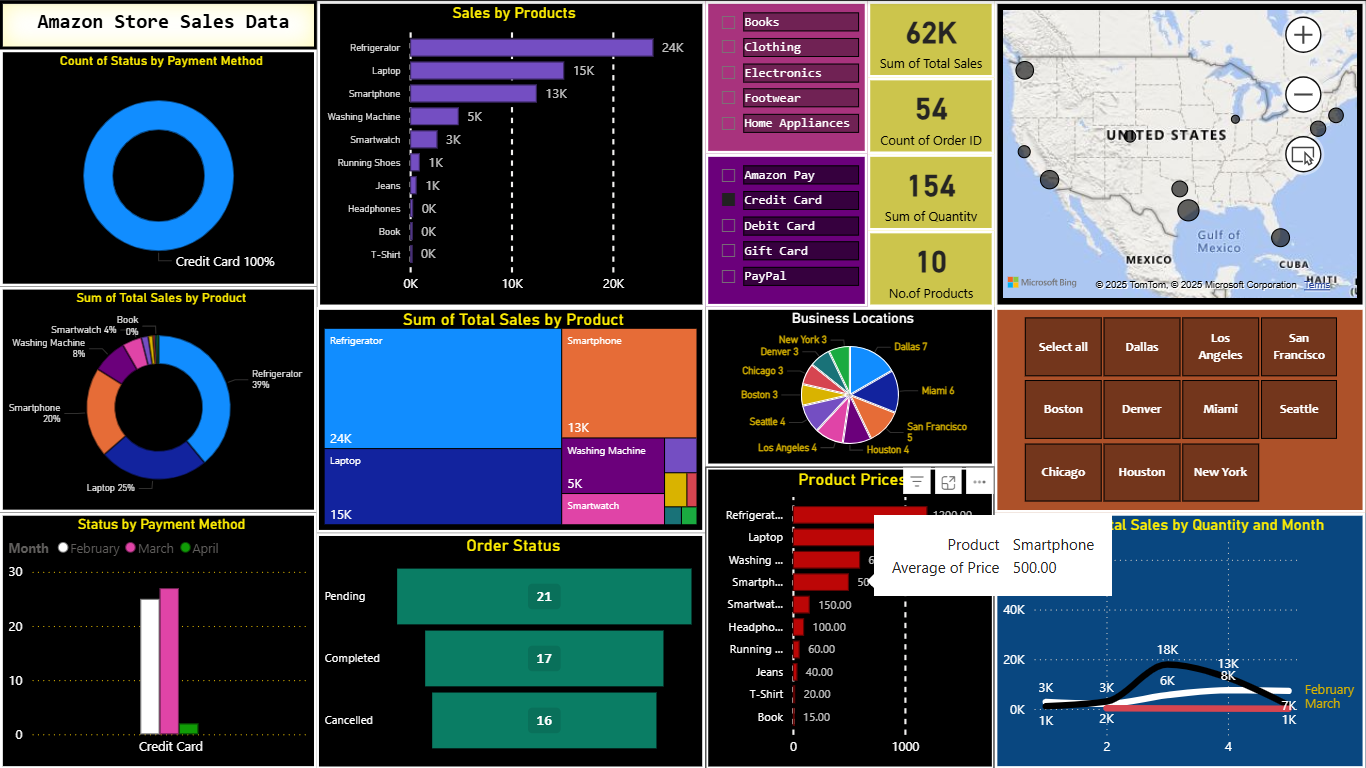

The page's visual inventory and layout, read from the dashboard file:
{"tool":"powerbi","page":{"name":"Page 1","canvas":[1280,720],"ordinal":0},"visuals":[{"type":"donutChart","fields":{"Category":["amazon_sales_data 2025.Payment Method"],"Y":["CountNonNull(amazon_sales_data 2025.Status)"]},"box":[0,45.3,297.3,222.4],"z":0},{"type":"textbox","box":[0,0,297.1,45.7],"z":1000},{"type":"donutChart","fields":{"Category":["amazon_sales_data 2025.Product"],"Y":["Sum(amazon_sales_data 2025.Total Sales)"]},"box":[0,267.8,297.3,211.9],"z":2000},{"type":"clusteredBarChart","title":"Sales by Products","fields":{"Category":["amazon_sales_data 2025.Product"],"Y":["Sum(amazon_sales_data 2025.Total Sales)","select"]},"box":[297.3,0,363.7,286.7],"z":3000},{"type":"treemap","fields":{"Group":["amazon_sales_data 2025.Product"],"Values":["Sum(amazon_sales_data 2025.Total Sales)"]},"box":[296.2,286.7,364.7,211.9],"z":4000},{"type":"card","fields":{"Values":["Sum(amazon_sales_data 2025.Total Sales)"]},"box":[812.8,0,119.1,71.7],"z":5000},{"type":"card","fields":{"Values":["Sum(amazon_sales_data 2025.Quantity)"]},"box":[812.8,143.4,119.1,71.7],"z":6000},{"type":"lineChart","fields":{"Y":["Sum(amazon_sales_data 2025.Total Sales)"],"Category":["amazon_sales_data 2025.Quantity"],"Series":["amazon_sales_data 2025.Date.Variation.Date Hierarchy.Month"]},"box":[931.9,479.6,347.9,240.4],"z":7000},{"type":"clusteredColumnChart","title":"Status by Payment Method","fields":{"Series":["amazon_sales_data 2025.Date.Variation.Date Hierarchy.Month"],"Y":["CountNonNull(amazon_sales_data 2025.Status)"],"Category":["amazon_sales_data 2025.Payment Method"]},"box":[0,479.6,297.3,240.4],"z":8000},{"type":"map","fields":{"Size":["Sum(amazon_sales_data 2025.Total Sales)"],"Category":["amazon_sales_data 2025.Customer Location"]},"box":[931.9,0,347.9,286.7],"z":9000},{"type":"funnel","title":"Order Status","fields":{"Y":["CountNonNull(amazon_sales_data 2025.Payment Method)"],"Category":["amazon_sales_data 2025.Status"]},"box":[296.2,498.6,364.7,221.4],"z":10000},{"type":"card","fields":{"Values":["Count(amazon_sales_data 2025.Product)"]},"box":[812.8,215.1,119.1,71.7],"z":11000},{"type":"slicer","fields":{"Values":["amazon_sales_data 2025.Customer Location"]},"box":[931.9,286.7,347.9,192.9],"z":12000},{"type":"card","fields":{"Values":["CountNonNull(amazon_sales_data 2025.Order ID)"]},"box":[812.8,71.7,119.1,71.7],"z":13000},{"type":"barChart","title":"Product Prices","fields":{"Y":["Avg(amazon_sales_data 2025.Price)"],"Category":["amazon_sales_data 2025.Product"]},"box":[661,436.4,270.9,283.6],"z":14000},{"type":"slicer","fields":{"Values":["amazon_sales_data 2025.Category"]},"box":[661,0,151.8,143.4],"z":15000},{"type":"pieChart","title":"Business Locations","fields":{"Category":["amazon_sales_data 2025.Customer Location"],"Y":["Count(amazon_sales_data 2025.Customer Name)"]},"box":[661,286.7,270.9,149.7],"z":16000},{"type":"slicer","fields":{"Values":["amazon_sales_data 2025.Payment Method"]},"box":[661,143.4,151.8,143.4],"z":17000}]}

Visuals, with their boxes in screenshot pixels (x1, y1, x2, y2), scaled from the page's 1280x720 canvas onto the 1366x768 screenshot:
donutChart - amazon_sales_data 2025.Payment Method x CountNonNull(amazon_sales_data 2025.Status): [0, 48, 317, 286]
textbox: [0, 0, 317, 49]
donutChart - amazon_sales_data 2025.Product x Sum(amazon_sales_data 2025.Total Sales): [0, 286, 317, 512]
"Sales by Products" clusteredBarChart: [317, 0, 705, 306]
treemap - amazon_sales_data 2025.Product x Sum(amazon_sales_data 2025.Total Sales): [316, 306, 705, 532]
card - Sum(amazon_sales_data 2025.Total Sales): [867, 0, 995, 76]
card - Sum(amazon_sales_data 2025.Quantity): [867, 153, 995, 229]
lineChart - Sum(amazon_sales_data 2025.Total Sales) x amazon_sales_data 2025.Quantity: [995, 512, 1365, 767]
"Status by Payment Method" clusteredColumnChart: [0, 512, 317, 767]
map - Sum(amazon_sales_data 2025.Total Sales) x amazon_sales_data 2025.Customer Location: [995, 0, 1365, 306]
"Order Status" funnel: [316, 532, 705, 767]
card - Count(amazon_sales_data 2025.Product): [867, 229, 995, 306]
slicer - amazon_sales_data 2025.Customer Location: [995, 306, 1365, 512]
card - CountNonNull(amazon_sales_data 2025.Order ID): [867, 76, 995, 153]
"Product Prices" barChart: [705, 465, 995, 767]
slicer - amazon_sales_data 2025.Category: [705, 0, 867, 153]
"Business Locations" pieChart: [705, 306, 995, 465]
slicer - amazon_sales_data 2025.Payment Method: [705, 153, 867, 306]
